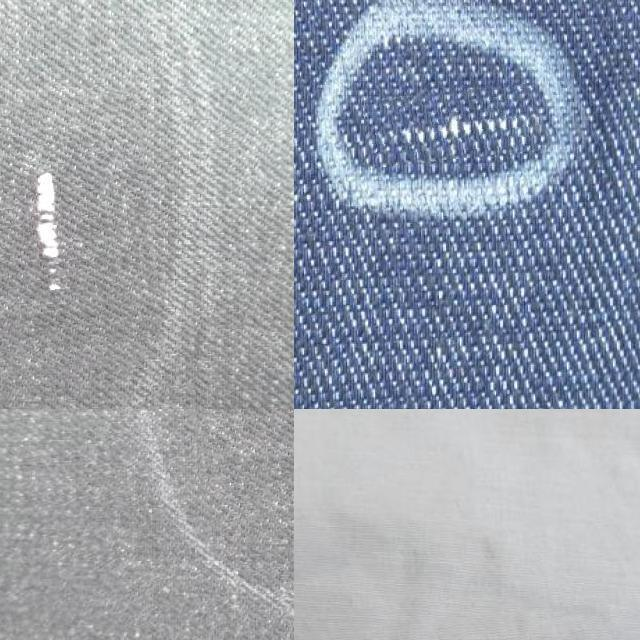Thread_other: (0, 95, 158, 375), (364, 88, 540, 164)
